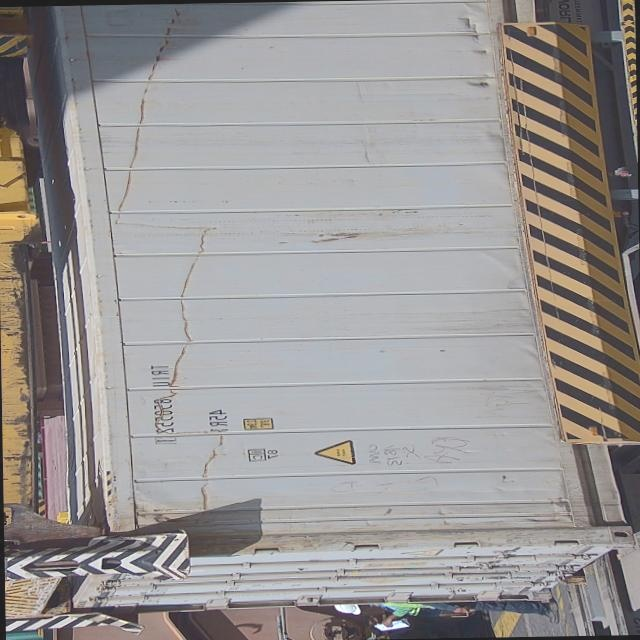Dent: (109, 9, 226, 519), (442, 5, 497, 92)
